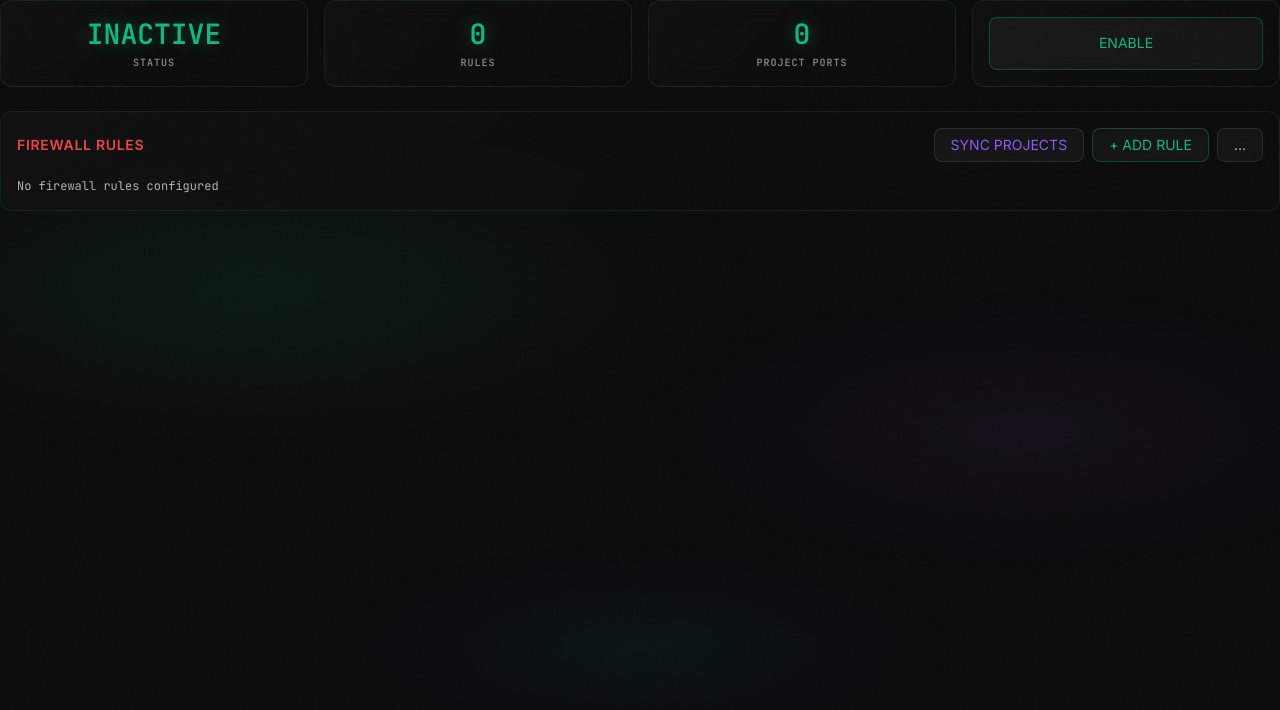
Test: FirewallPane › add rule form › should show success message after adding rule
Click the button "+ ADD RULE": (1150, 145) [1092, 128, 1209, 162]
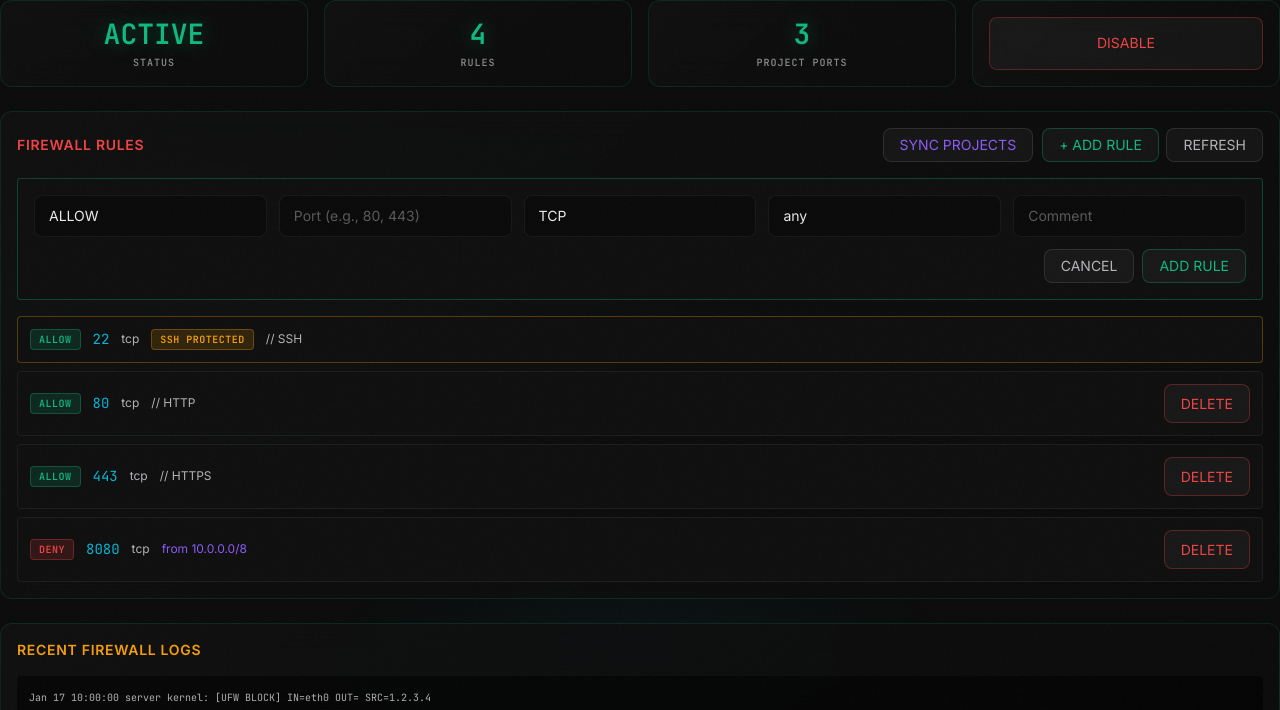
In the field with placeholder "Port (e.g., 80, 443)": (395, 216) [279, 195, 512, 237], type "3000"
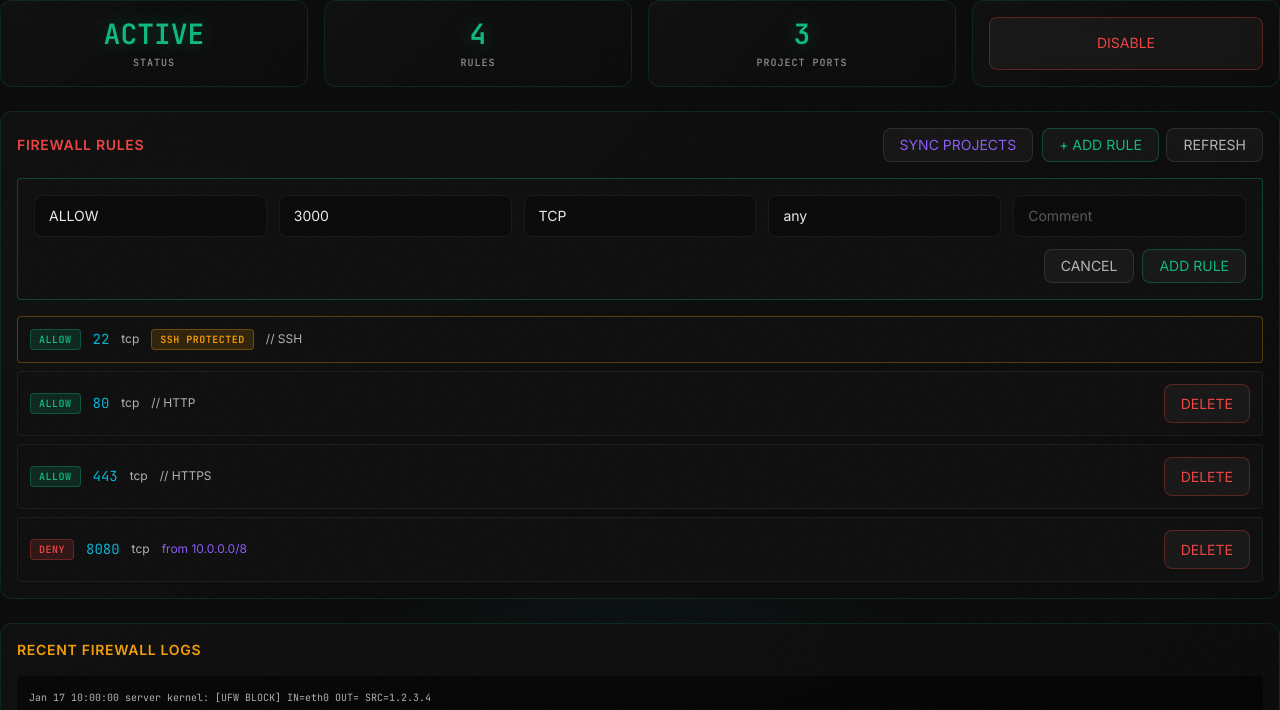
Click the button "ADD RULE": (1194, 266) [1142, 249, 1246, 283]
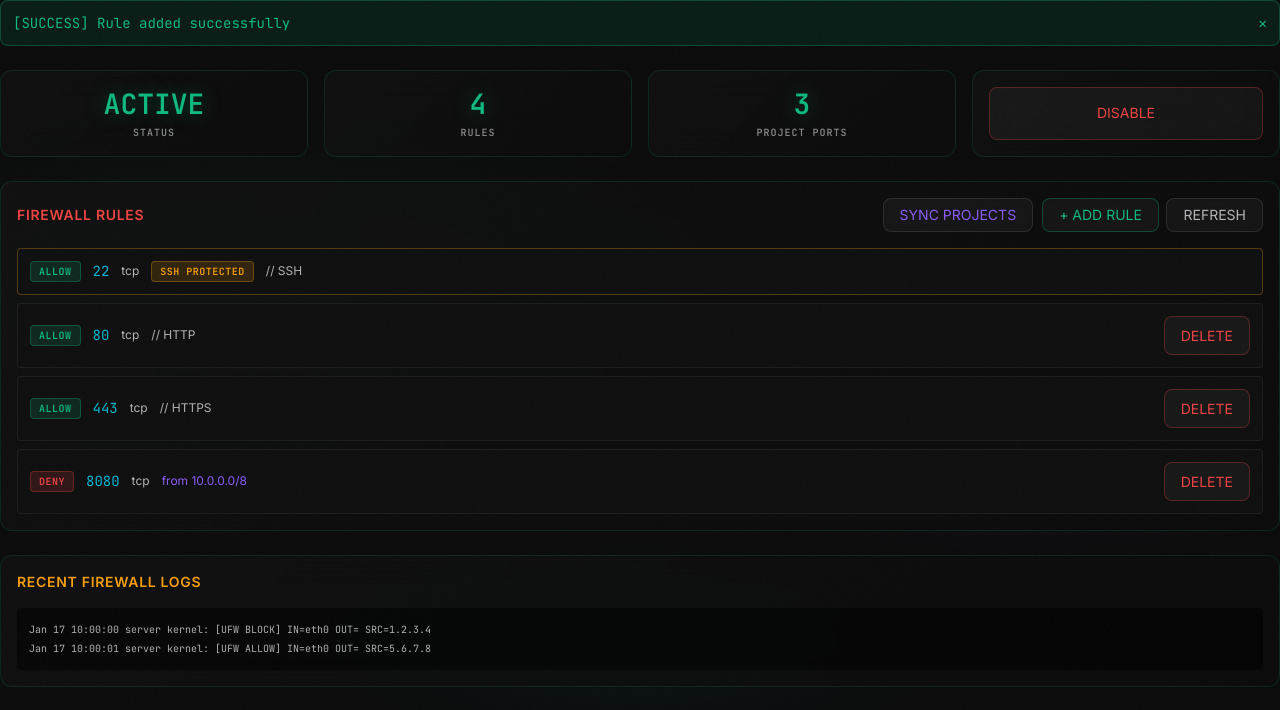
expect the text "[SUCCESS] Rule added successfully" is shown: met, box [13, 13, 290, 33]
